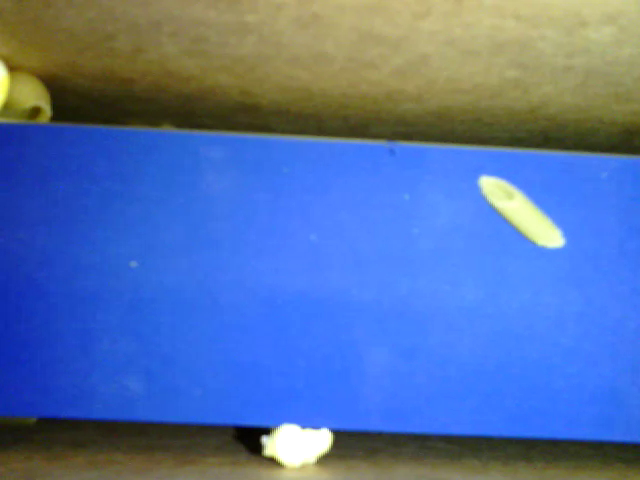penne: (472, 173, 568, 253)
shell: (3, 68, 52, 126)
